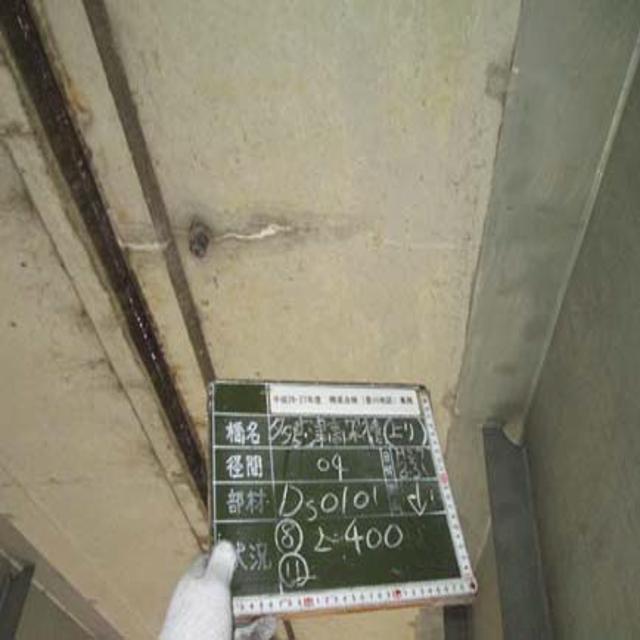freelime: (213, 203, 311, 258)
